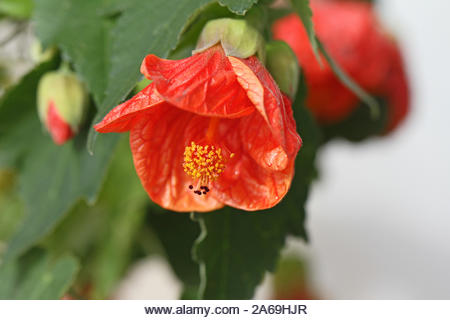Hibiscus: (107, 44, 304, 217), (28, 38, 107, 149)
